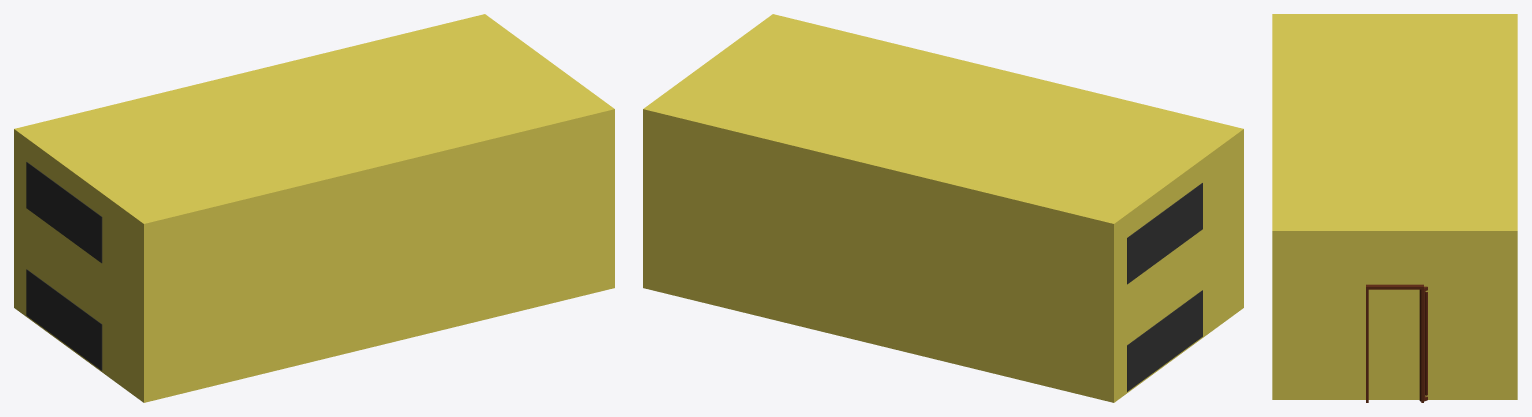
Rendered from Room.fbx.
3 views of the same model, side by side, from view 1: azimuth 30°, elevation 25°; view 2: azimuth 150°, elevation 25°; view 3: azimuth 270°, elevation 25° (orthographic). The views are drawn at different scales.
Visible parts, largest first — view 1: Room, Armario, Armario.001; view 2: Room, Armario, Armario.001; view 3: Room, DoorFrame, Door.
Boxes of the visible parts, left/top/right/bottom form: Room: left=14, top=14, right=614, bottom=402; Armario: left=26, top=269, right=102, bottom=370; Armario.001: left=26, top=162, right=102, bottom=263; Room: left=643, top=14, right=1243, bottom=402; Armario: left=1127, top=290, right=1202, bottom=391; Armario.001: left=1127, top=183, right=1202, bottom=284; Room: left=1272, top=14, right=1517, bottom=399; DoorFrame: left=1366, top=284, right=1423, bottom=402; Door: left=1419, top=286, right=1427, bottom=401.
Size of the model in its own units: 2008 by 723 by 946.
